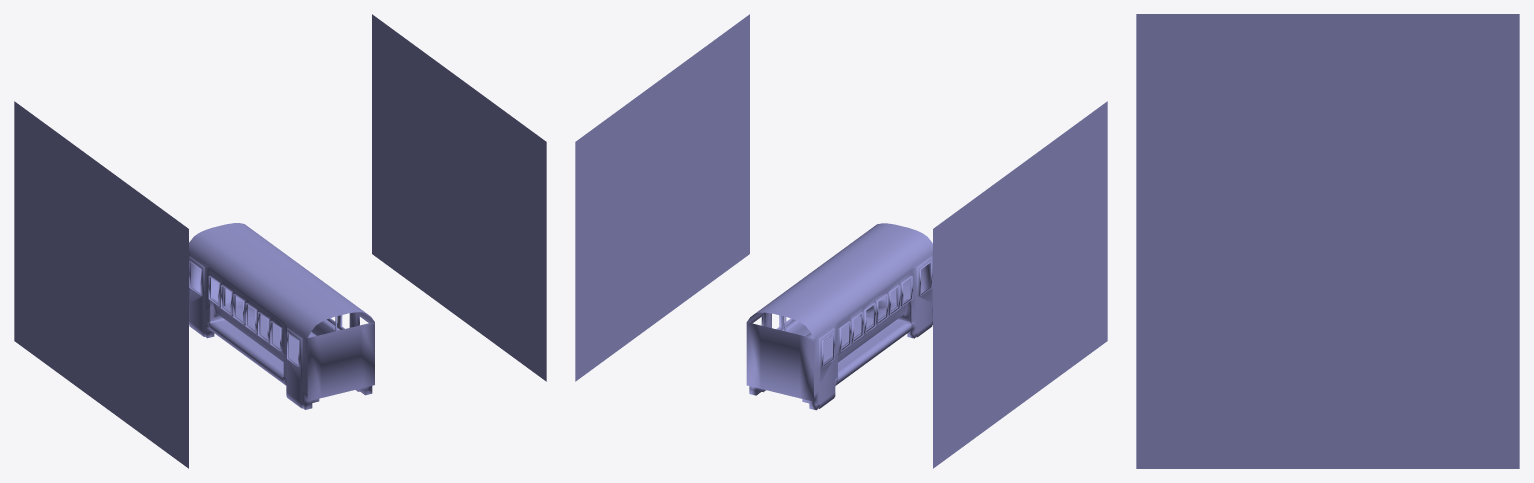
Rendered from Train_Cart_Test_Model.fbx.
The picture shows the model from 3 angles, left to right: view 1: azimuth 30°, elevation 25°; view 2: azimuth 150°, elevation 25°; view 3: azimuth 270°, elevation 25°; orthographic projection. The views are drawn at different scales.
Parts seen in each view (by area): view 1: Canvas, Cart; view 2: Canvas, Cart; view 3: Canvas.
Part boxes in pixels (bbox=[...]): Canvas: bbox=[14, 14, 546, 468]; Cart: bbox=[189, 223, 374, 409]; Canvas: bbox=[575, 14, 1107, 468]; Cart: bbox=[746, 223, 932, 410]; Canvas: bbox=[1136, 14, 1519, 468].
Bounding box in the file's own units: 2600 × 1668 × 2200.
